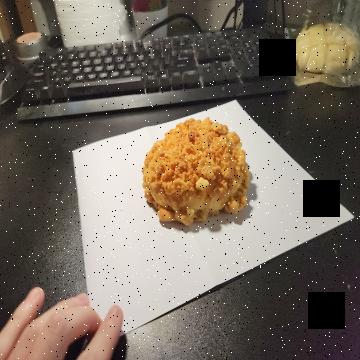soboru_bread: (142, 118, 253, 228)
